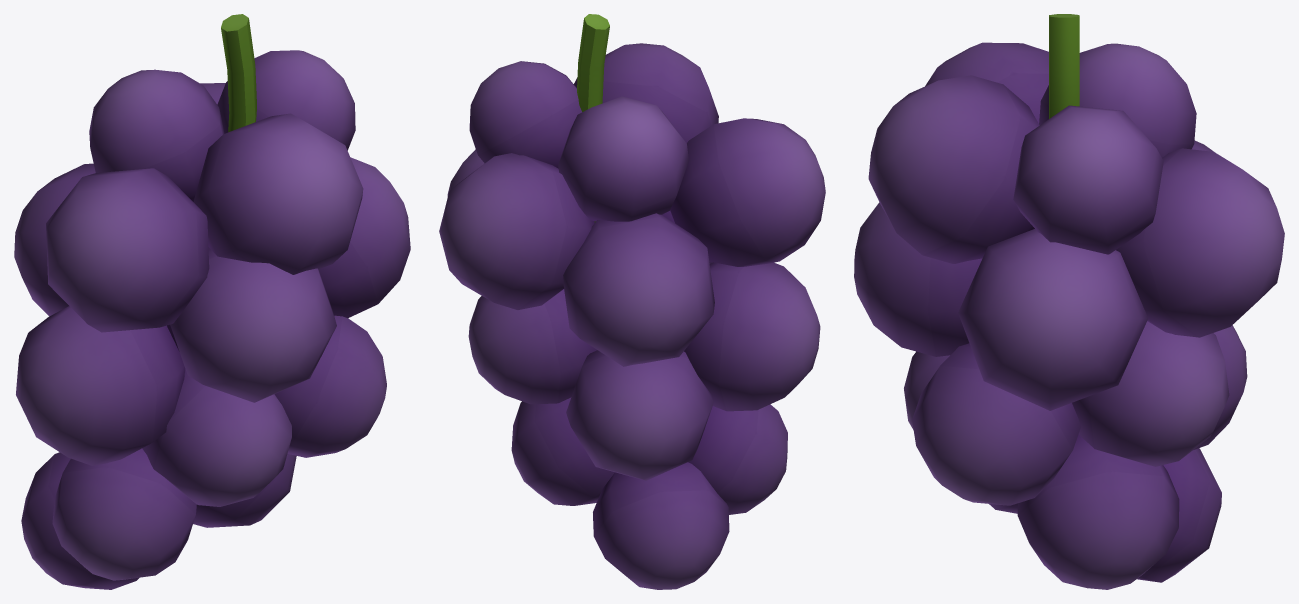
File: Grape.glb
The picture shows the model from 3 angles, left to right: view 1: azimuth 30°, elevation 25°; view 2: azimuth 150°, elevation 25°; view 3: azimuth 270°, elevation 25°; orthographic projection. The views are drawn at different scales.
Visible parts, largest first — view 1: geometry_0; view 2: geometry_0; view 3: geometry_0.
Boxes of the visible parts, x1=… form: geometry_0: x1=14, y1=14, x2=410, y2=589; geometry_0: x1=439, y1=14, x2=825, y2=589; geometry_0: x1=854, y1=14, x2=1284, y2=589.
Size of the model in its own units: 0.3135 by 0.4465 by 0.2807.
1 material, 1 textured.
